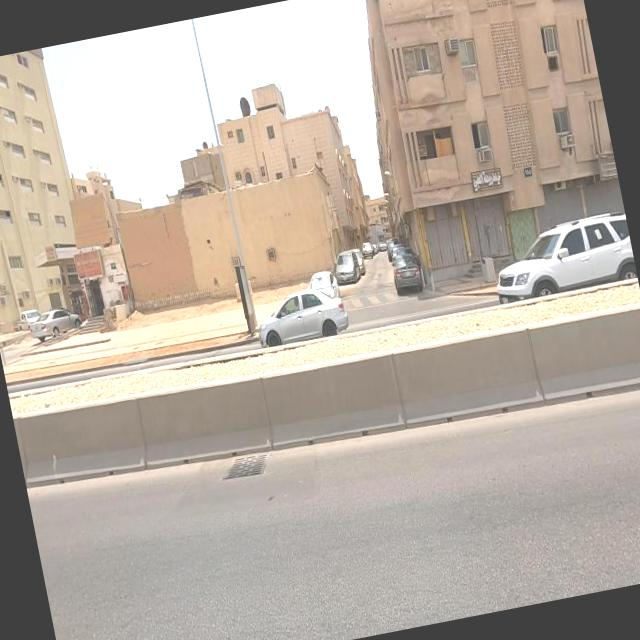debris: (48, 212, 130, 304)
